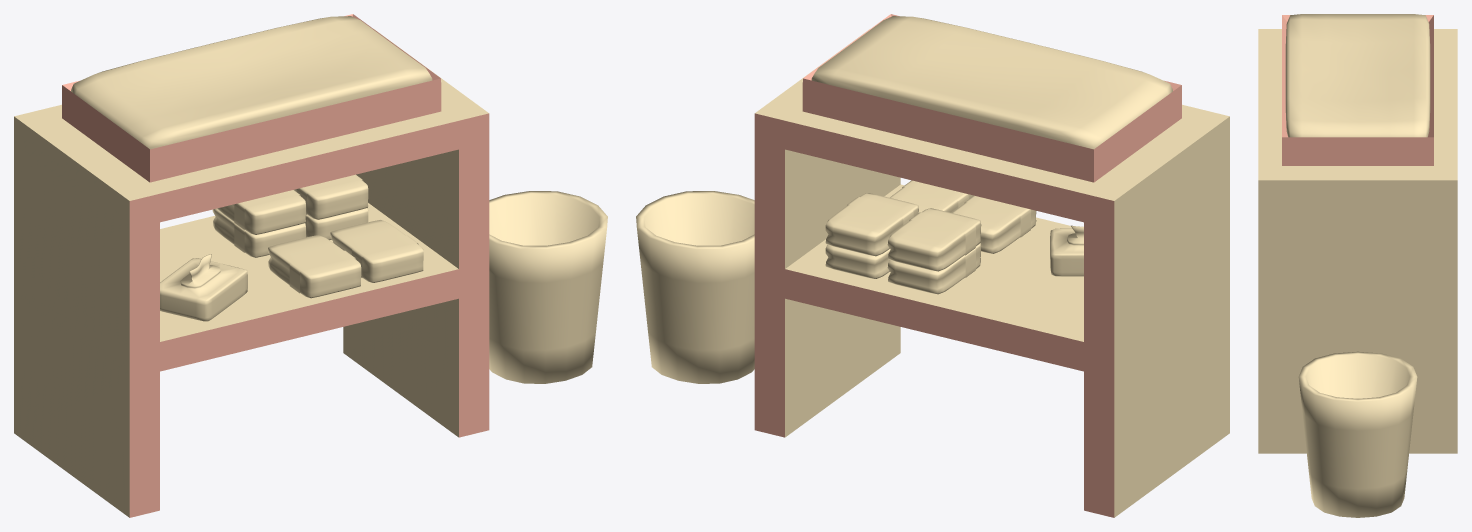
Rendered from Changing Table.fbx.
The picture shows the model from 3 angles, left to right: view 1: azimuth 30°, elevation 25°; view 2: azimuth 150°, elevation 25°; view 3: azimuth 270°, elevation 25°; orthographic projection. The views are drawn at different scales.
Parts seen in each view (by area): view 1: Changing table, Trashcan, Diaper.001, Wipes, Diaper, Diaper.005, Diaper.004, Diaper.003, Diaper.002; view 2: Changing table, Trashcan, Diaper.005, Diaper.004, Diaper.001, Diaper.003, Wipes, Diaper, Diaper.002; view 3: Changing table, Trashcan.
Boxes of the visible parts, x1,y1,x2,y2 form: Changing table: (14,14,489,517); Trashcan: (489,191,607,383); Diaper.001: (268,235,361,298); Wipes: (160,254,247,321); Diaper: (330,220,423,282); Diaper.005: (217,190,305,234); Diaper.004: (294,174,368,219); Diaper.003: (212,208,305,257); Diaper.002: (305,208,368,240); Changing table: (754,14,1229,517); Trashcan: (636,191,754,383); Diaper.005: (887,208,981,271); Diaper.004: (825,193,918,256); Diaper.001: (952,195,1036,253); Diaper.003: (887,243,981,294); Wipes: (1050,225,1083,276); Diaper: (890,180,973,212); Diaper.002: (825,244,890,278); Changing table: (1258,14,1457,453); Trashcan: (1298,351,1417,517).
Size of the model in its own units: 1036 by 676 by 395.
